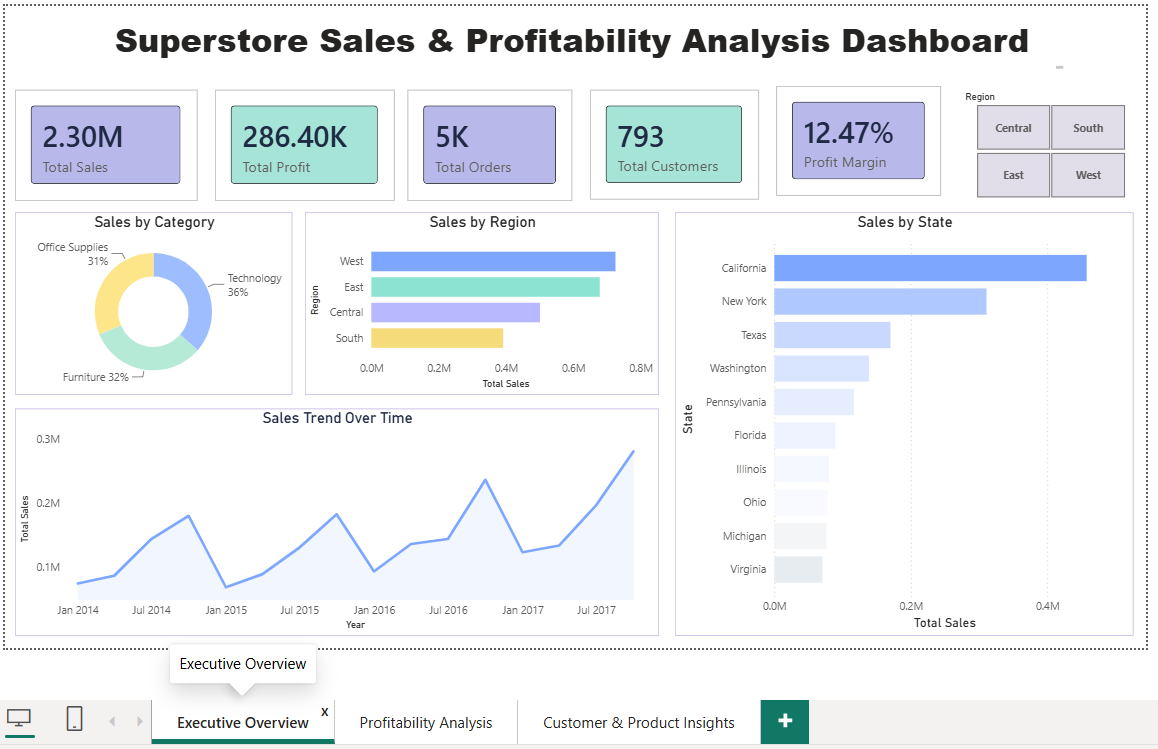

This screenshot's page, from the dashboard's own definition file:
{"tool":"powerbi","page":{"name":"Executive Overview","canvas":[1280,720],"ordinal":0},"visuals":[{"type":"cardVisual","fields":{"Data":["Calculations.Total Sales"]},"box":[11.2,94,204.7,124.8],"z":0},{"type":"cardVisual","fields":{"Data":["Calculations.Total Profit"]},"box":[235.6,94,201.9,124.8],"z":1000},{"type":"cardVisual","fields":{"Data":["Calculations.Total Orders"]},"box":[451.5,94,185.1,124.8],"z":2000},{"type":"cardVisual","fields":{"Data":["Calculations.Total Customer"]},"box":[656.3,94,189.3,123.4],"z":3000},{"type":"cardVisual","fields":{"Data":["Calculations.Profit Margin"]},"box":[865.2,89.7,185.1,123.4],"z":4000},{"type":"areaChart","title":"Sales Trend Over Time","fields":{"Category":["Sample - Superstore.Order Date.Variation.Date Hierarchy.Year","Sample - Superstore.Order Date.Variation.Date Hierarchy.Quarter","Sample - Superstore.Order Date.Variation.Date Hierarchy.Month","Sample - Superstore.Order Date.Variation.Date Hierarchy.Day"],"Y":["Calculations.Total Sales"]},"box":[11.2,451.5,722.2,255.2],"z":5000},{"type":"clusteredBarChart","title":"Sales by Region","fields":{"Category":["Sample - Superstore.Region"],"Y":["Calculations.Total Sales"]},"box":[336.5,231.4,396.8,204.7],"z":6000},{"type":"donutChart","title":"Sales by Category","fields":{"Y":["Calculations.Total Sales"],"Category":["Sample - Superstore.Category"]},"box":[11.2,231.4,311.3,204.7],"z":7000},{"type":"clusteredBarChart","title":"Sales by State","fields":{"Y":["Calculations.Total Sales"],"Category":["Sample - Superstore.State"]},"box":[751.6,231.4,514.6,475.4],"z":8000},{"type":"textbox","title":"Superstore Sales & Profitability Analysis Dashboard","box":[79.9,11.2,1112,64.5],"z":9000},{"type":"slicer","fields":{"Values":["Sample - Superstore.Region"]},"box":[1064.3,89.7,216,131.8],"z":10000}]}

Visuals, with their boxes on the page's 1280x720 design canvas (x1, y1, x2, y2). These are canvas units, not pixel positions in the 1158x749 screenshot, which may show the page scaled, cropped or inside an application window:
cardVisual - Calculations.Total Sales: <region>11, 94, 216, 219</region>
cardVisual - Calculations.Total Profit: <region>236, 94, 438, 219</region>
cardVisual - Calculations.Total Orders: <region>452, 94, 637, 219</region>
cardVisual - Calculations.Total Customer: <region>656, 94, 846, 217</region>
cardVisual - Calculations.Profit Margin: <region>865, 90, 1050, 213</region>
"Sales Trend Over Time" areaChart: <region>11, 452, 733, 707</region>
"Sales by Region" clusteredBarChart: <region>336, 231, 733, 436</region>
"Sales by Category" donutChart: <region>11, 231, 322, 436</region>
"Sales by State" clusteredBarChart: <region>752, 231, 1266, 707</region>
"Superstore Sales & Profitability Analysis Dashboard" textbox: <region>80, 11, 1192, 76</region>
slicer - Sample - Superstore.Region: <region>1064, 90, 1280, 222</region>
